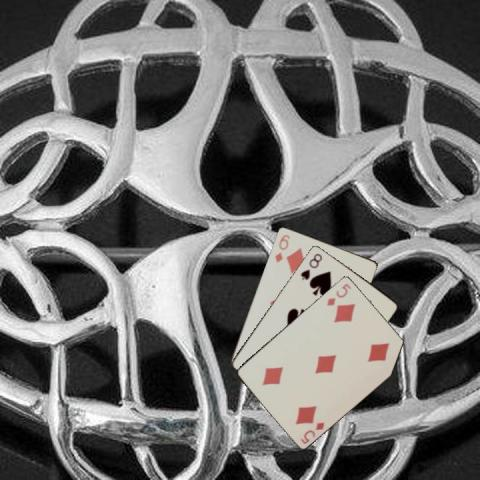5d: (324, 280, 353, 307), (297, 419, 326, 445)
6d: (272, 231, 291, 264)
8s: (298, 250, 324, 281)
